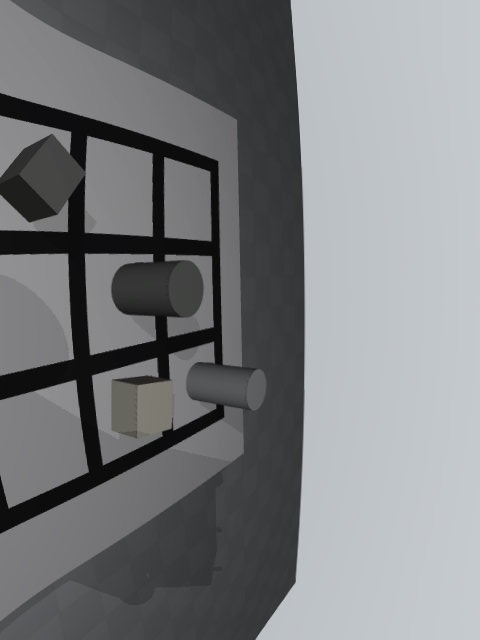can: (186, 362, 267, 411)
cube: (0, 133, 87, 222)
cylinder: (111, 260, 203, 318)
foam: (111, 375, 173, 439)
